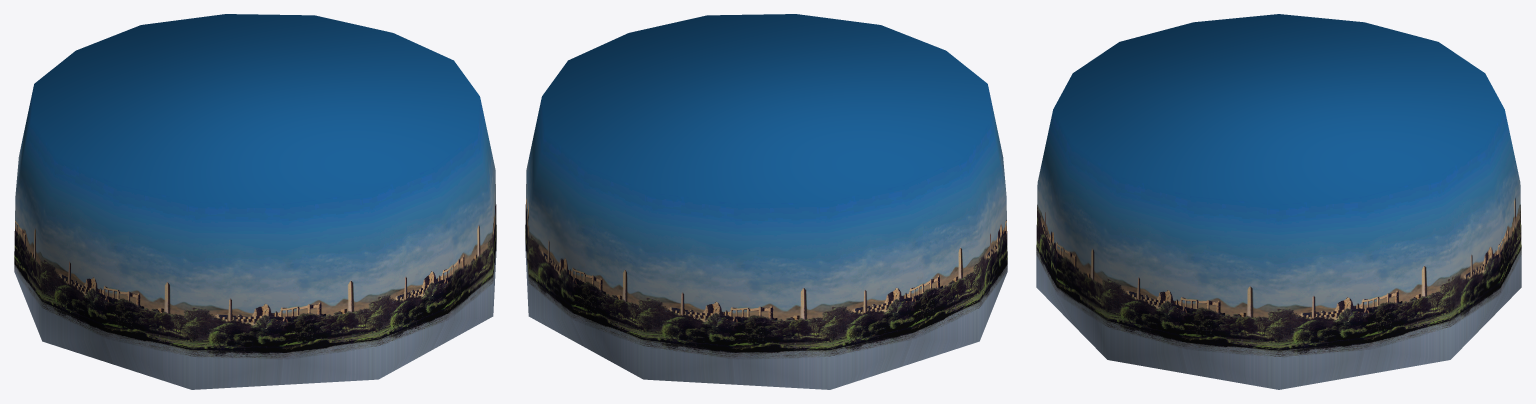
The model's file is SkySphere.obj.
The picture shows the model from 3 angles, left to right: view 1: azimuth 30°, elevation 25°; view 2: azimuth 150°, elevation 25°; view 3: azimuth 270°, elevation 25°; orthographic projection.
Size of the model in its own units: 7747 by 3134 by 7747.
1 material, 1 textured.
